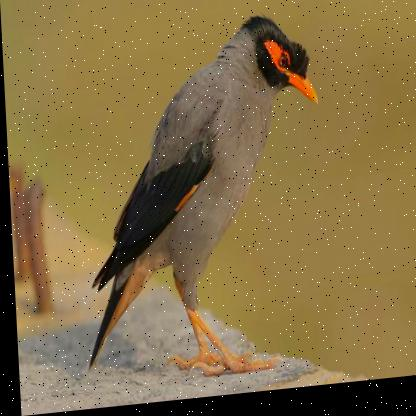Burung: (70, 16, 332, 389)
